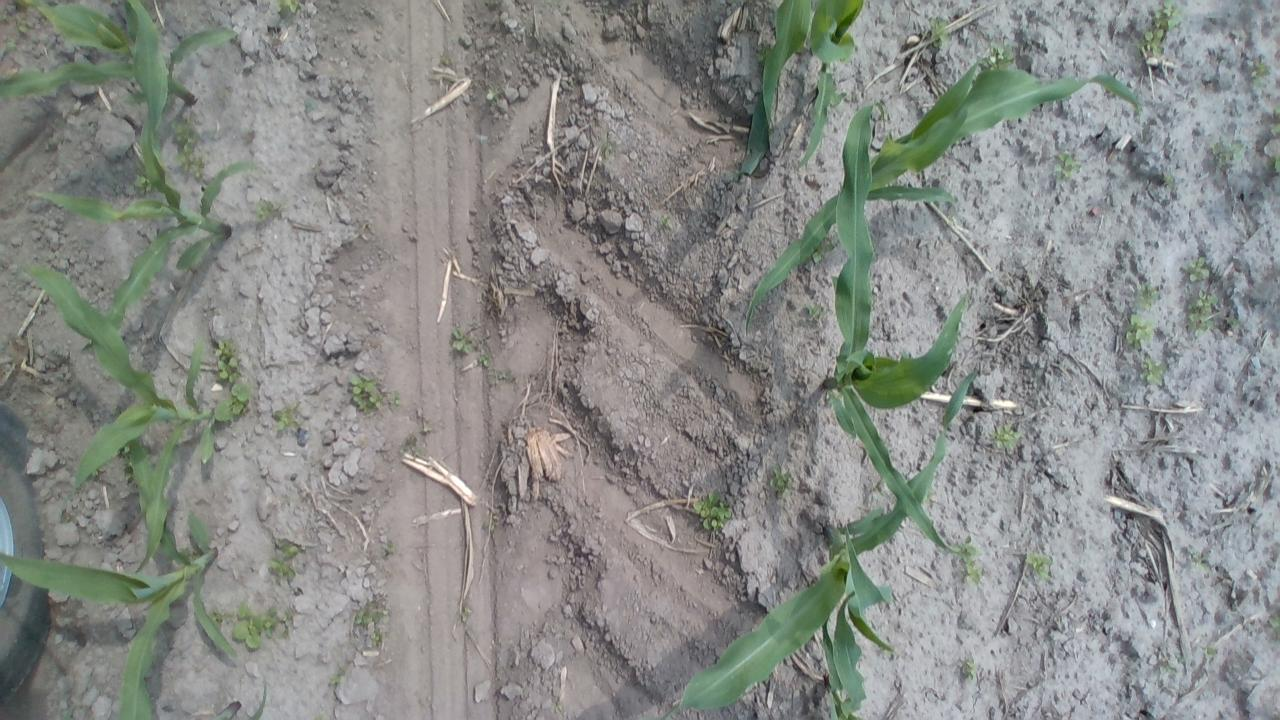Maize: (652, 365, 985, 720), (744, 47, 1148, 335), (31, 0, 268, 354), (0, 427, 278, 720), (13, 243, 242, 578), (825, 98, 977, 562), (2, 0, 248, 119), (736, 0, 876, 177), (806, 588, 879, 720)
Weeds: (208, 602, 297, 652), (352, 594, 398, 652), (1137, 0, 1181, 60), (346, 373, 408, 414), (170, 116, 209, 181), (949, 533, 988, 586), (694, 487, 737, 534), (1184, 286, 1219, 340), (211, 385, 254, 424), (1021, 540, 1055, 585), (1122, 310, 1160, 350), (269, 538, 302, 584), (395, 422, 435, 459), (212, 336, 242, 384), (1208, 138, 1248, 169), (987, 421, 1027, 452), (981, 42, 1022, 70), (272, 398, 304, 432), (250, 195, 284, 226), (1052, 148, 1083, 182), (768, 461, 795, 500), (130, 166, 160, 198), (1130, 280, 1162, 310), (448, 321, 477, 354), (924, 16, 952, 50), (1139, 358, 1169, 389), (957, 652, 982, 686), (1185, 255, 1212, 284), (799, 300, 829, 325), (268, 0, 306, 18), (1252, 54, 1275, 81), (812, 242, 836, 266), (1156, 654, 1179, 678), (379, 537, 398, 564), (329, 662, 348, 688), (1266, 100, 1280, 134), (0, 34, 21, 54), (494, 367, 518, 384), (458, 604, 481, 621), (1157, 165, 1175, 186), (484, 84, 502, 104), (316, 705, 338, 720), (654, 215, 676, 230), (1264, 616, 1280, 636), (1202, 644, 1218, 664), (478, 350, 494, 369), (550, 700, 568, 715), (1270, 150, 1280, 176), (16, 20, 32, 35), (1232, 315, 1242, 334), (0, 9, 14, 22)
